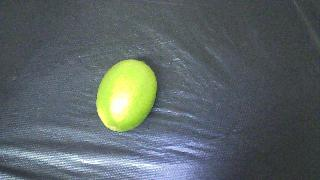LOCAL: (96, 59, 157, 132)
